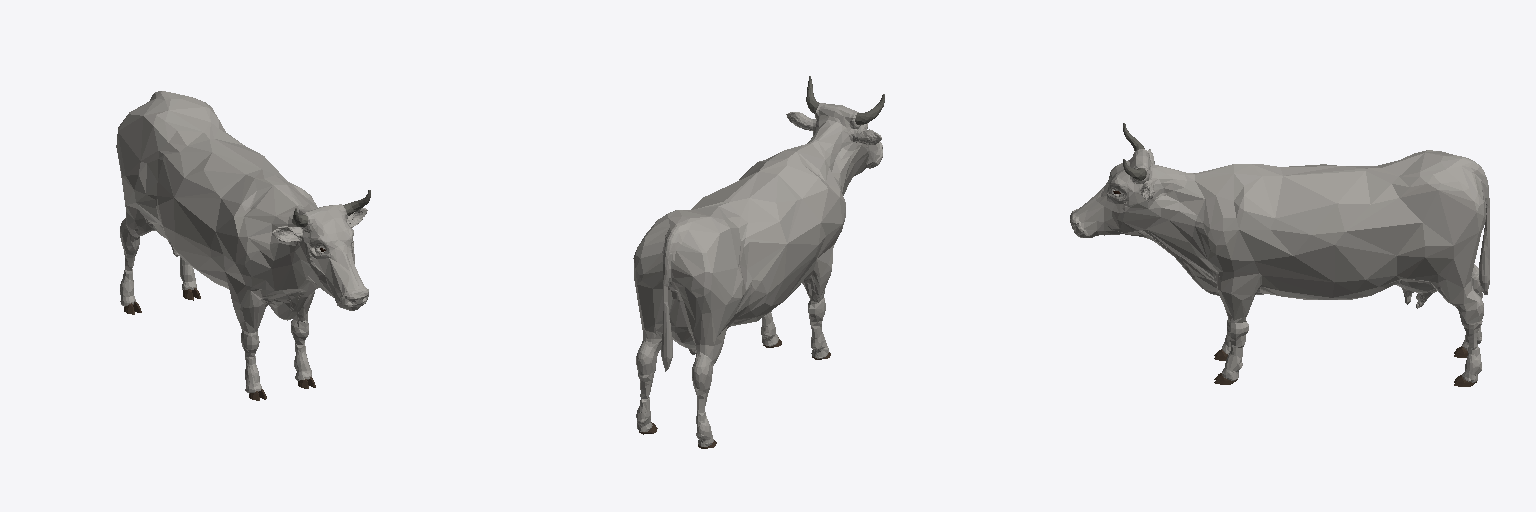
Rendered from cow.obj.
The picture shows the model from 3 angles: view 1: azimuth 30°, elevation 25°; view 2: azimuth 150°, elevation 25°; view 3: azimuth 270°, elevation 25°; orthographic projection.
Parts seen in each view (by area): view 1: Mesh1 COWBODY1 skp6384_1 Model; view 2: Mesh1 COWBODY1 skp6384_1 Model; view 3: Mesh1 COWBODY1 skp6384_1 Model.
Boxes of the visible parts, x1,y1,x2,y2 form: Mesh1 COWBODY1 skp6384_1 Model: [116, 91, 368, 393]; Mesh1 COWBODY1 skp6384_1 Model: [633, 103, 882, 446]; Mesh1 COWBODY1 skp6384_1 Model: [1070, 149, 1489, 382].
Bounding box in the file's own units: 0.9453 × 2.04 × 3.41.